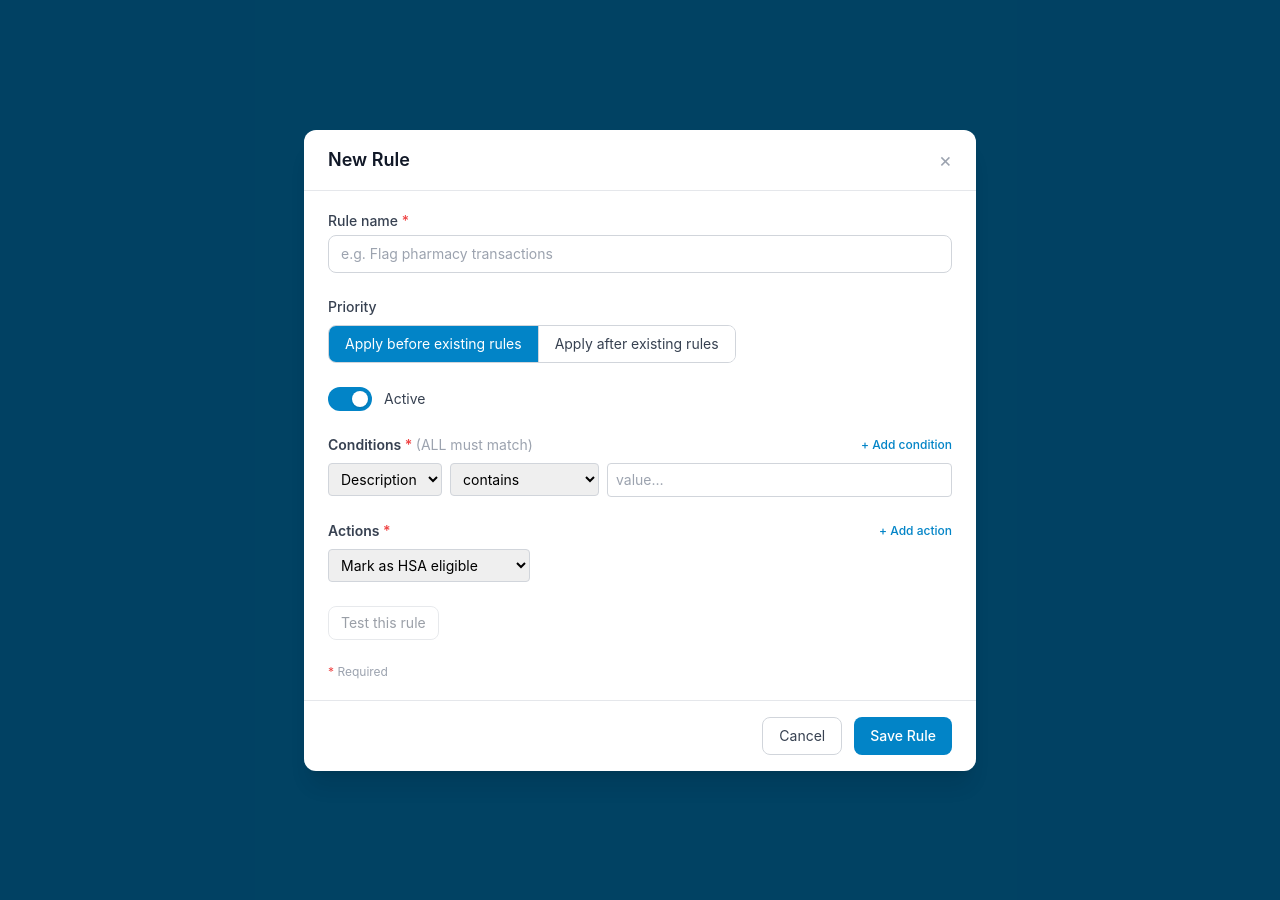
Test: RuleEditor › shows error when condition value is empty
Type "My Rule" into the field with placeholder "e.g. Flag pharmacy transactions" at [640, 254], box [328,234,952,272]
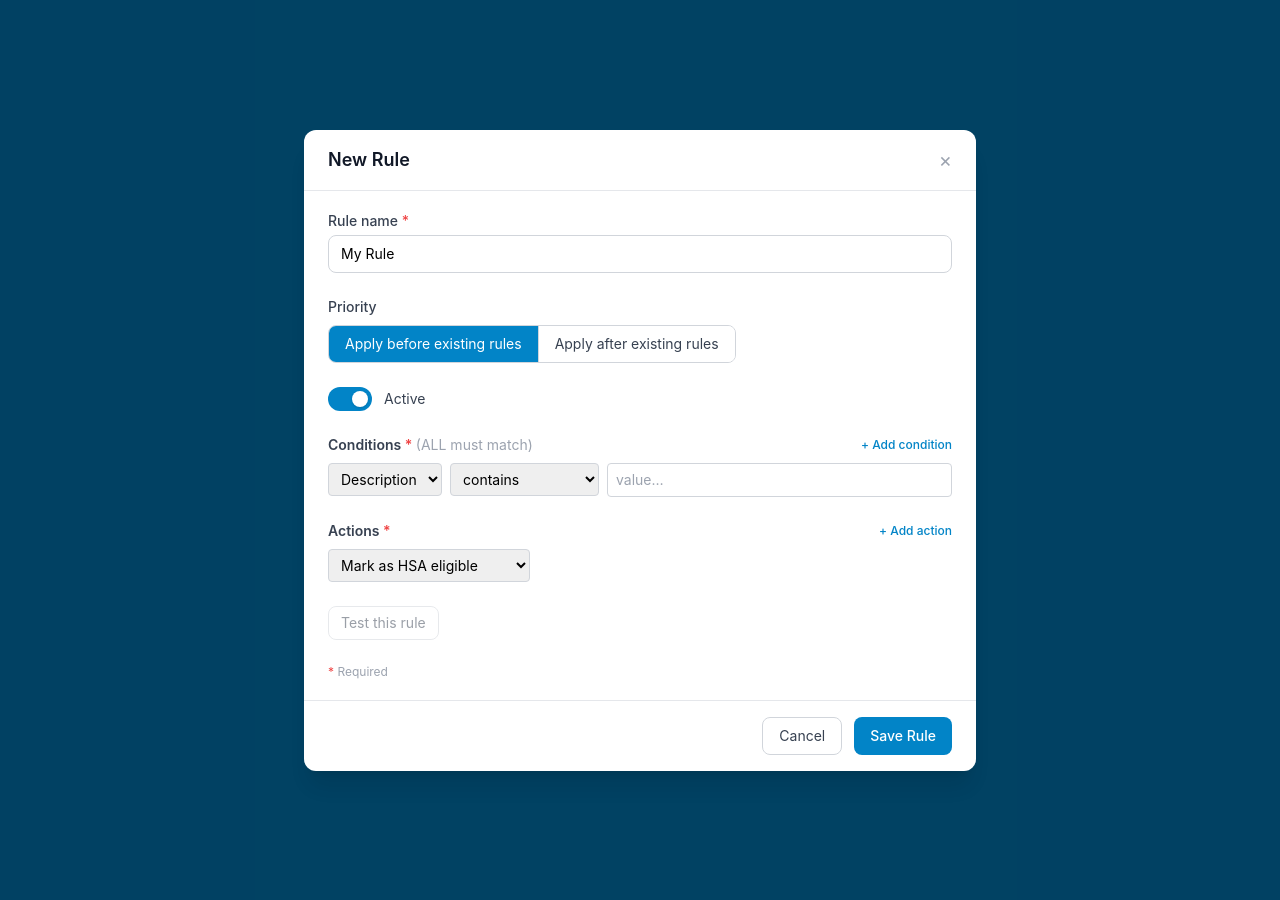
# Value input is empty by default
Click the button "Save Rule" at [903, 736], box [854,716,952,754]
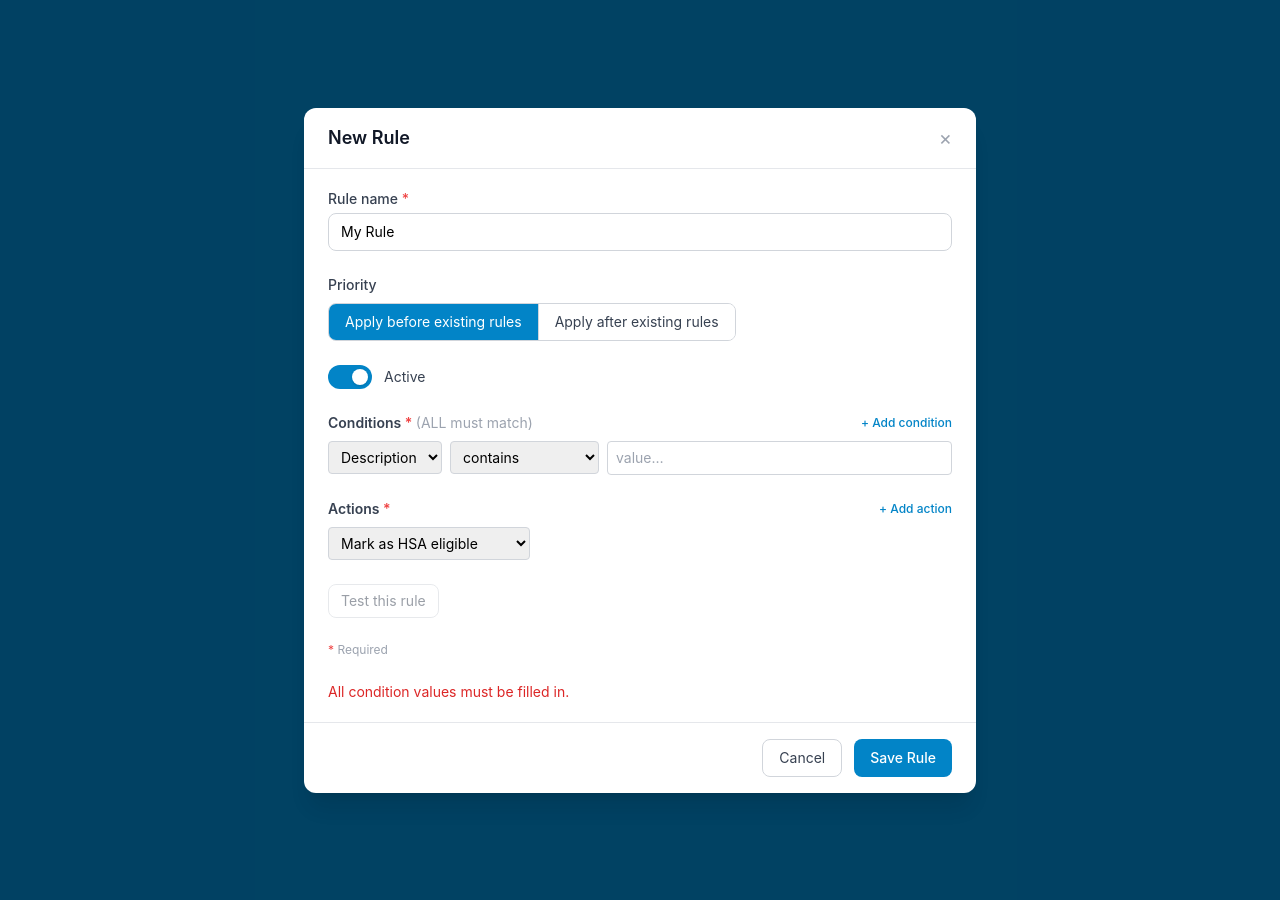
Now the text "All condition values must be filled in." is shown, box [328,682,569,700]
